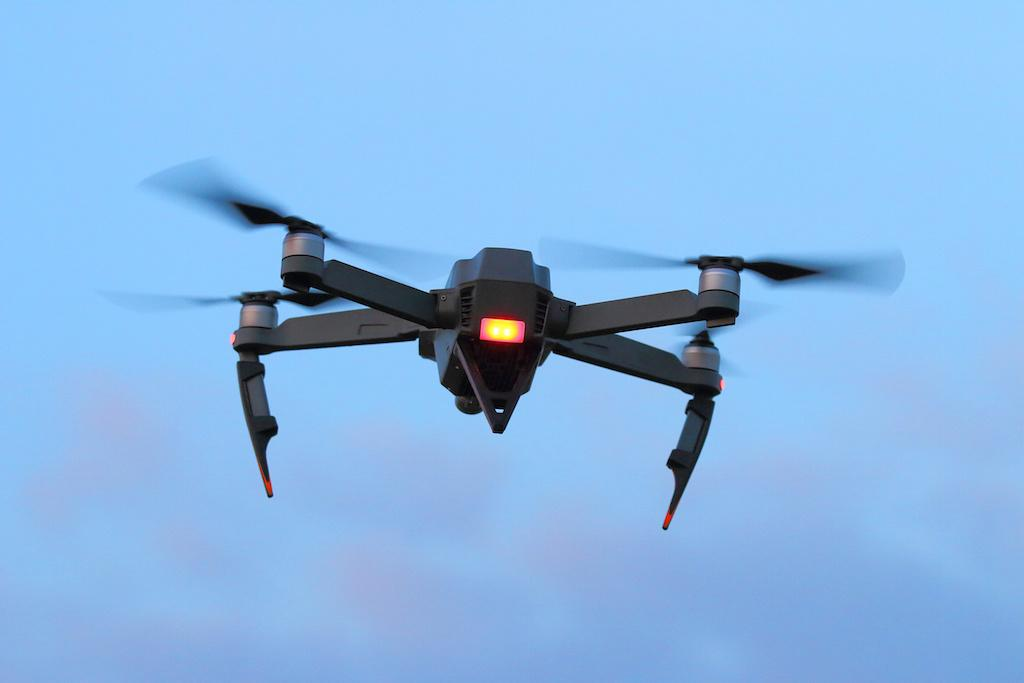drone: (144, 146, 836, 550)
